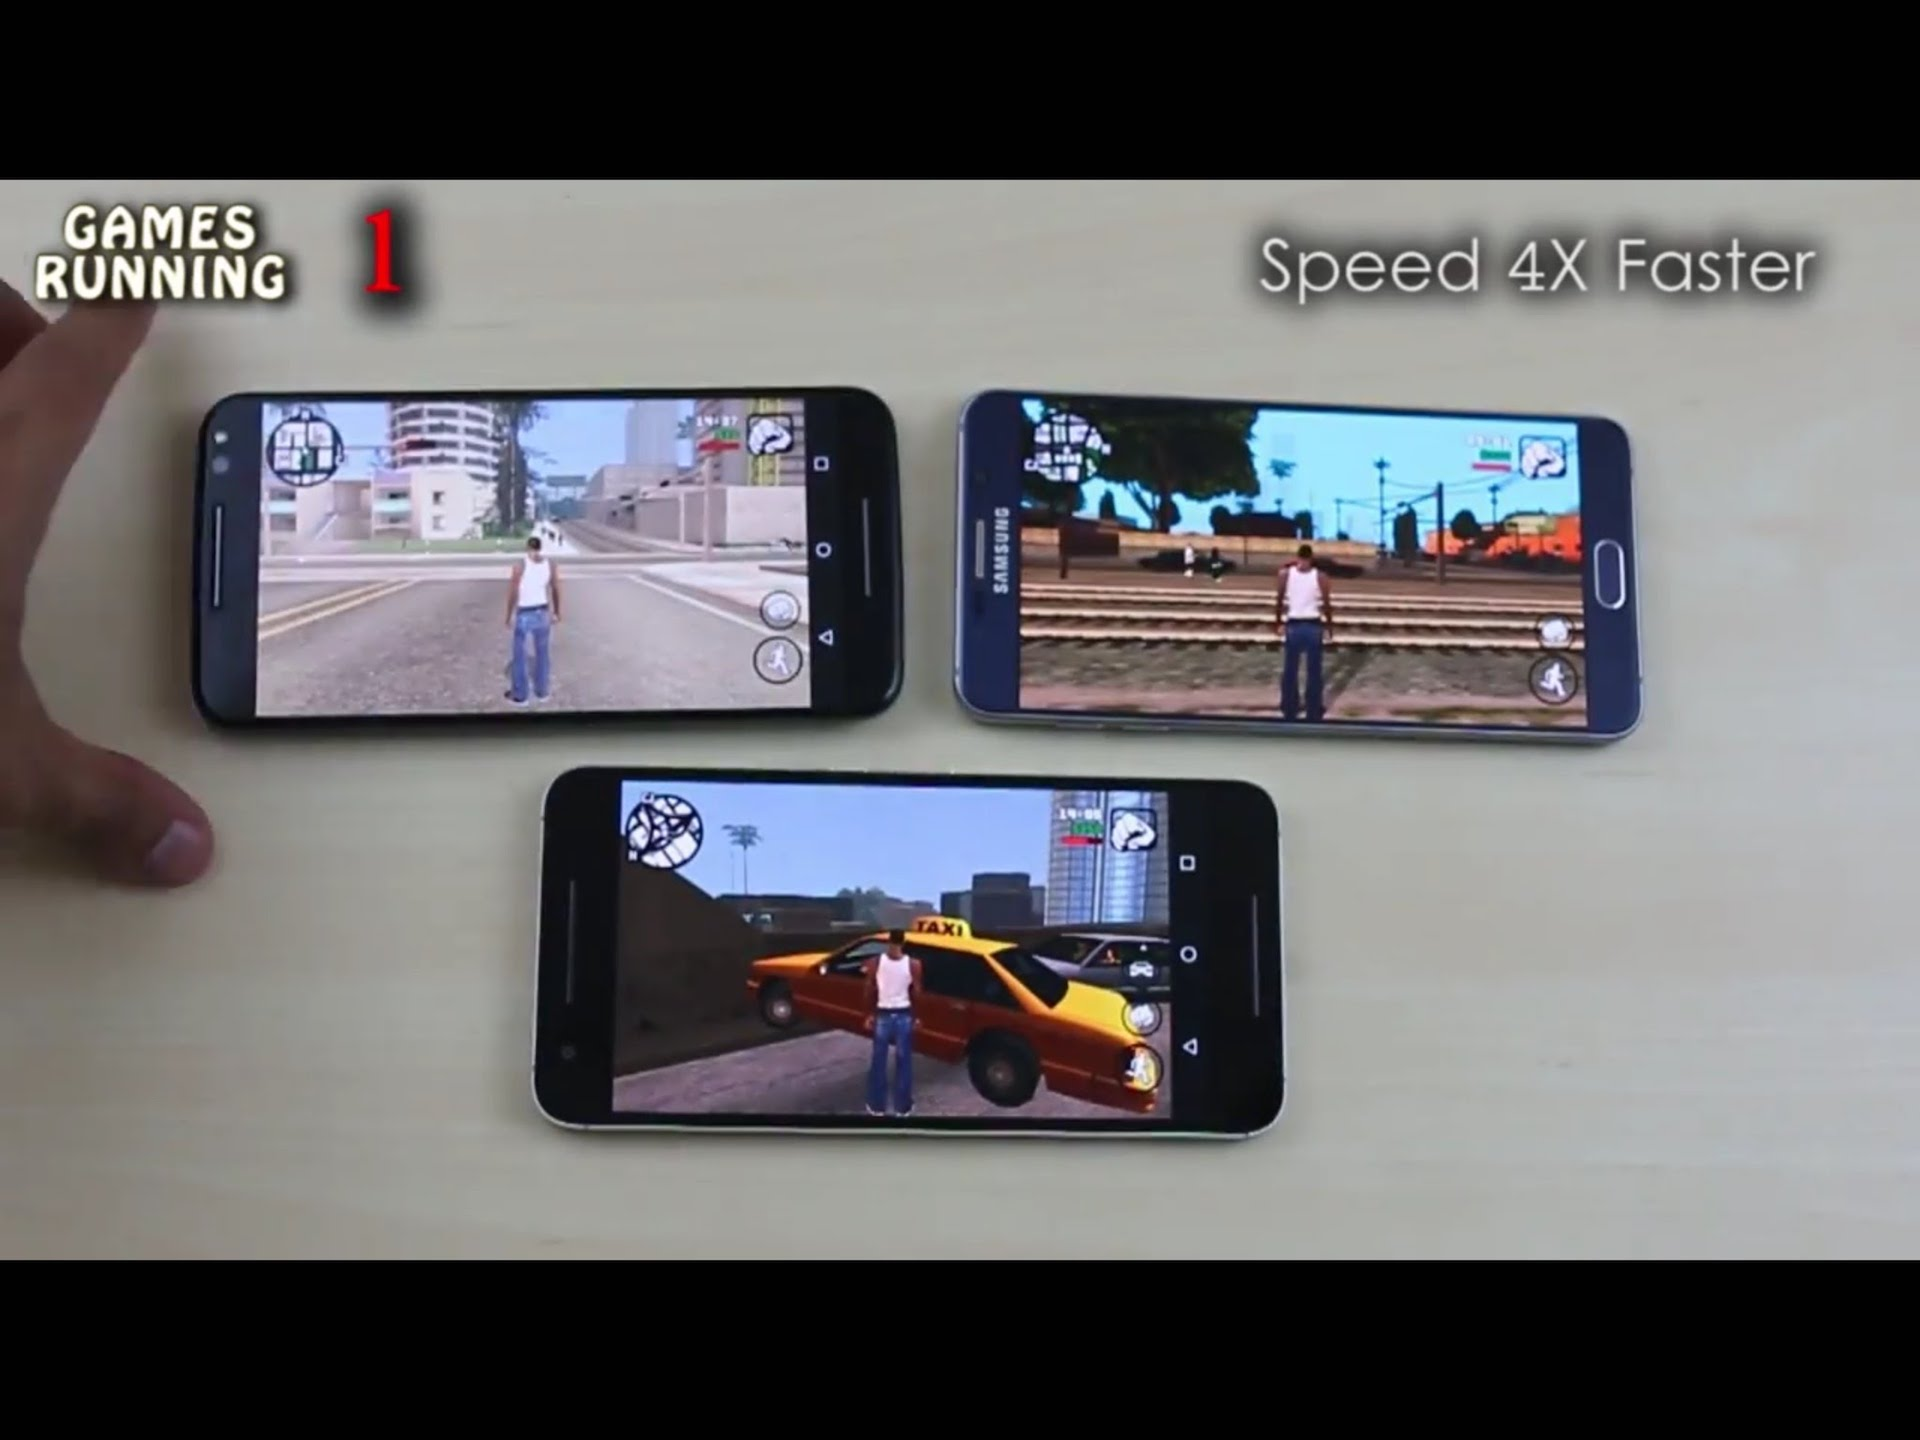smartphone: (528, 762, 1290, 1141), (187, 380, 910, 734), (949, 387, 1640, 749)
